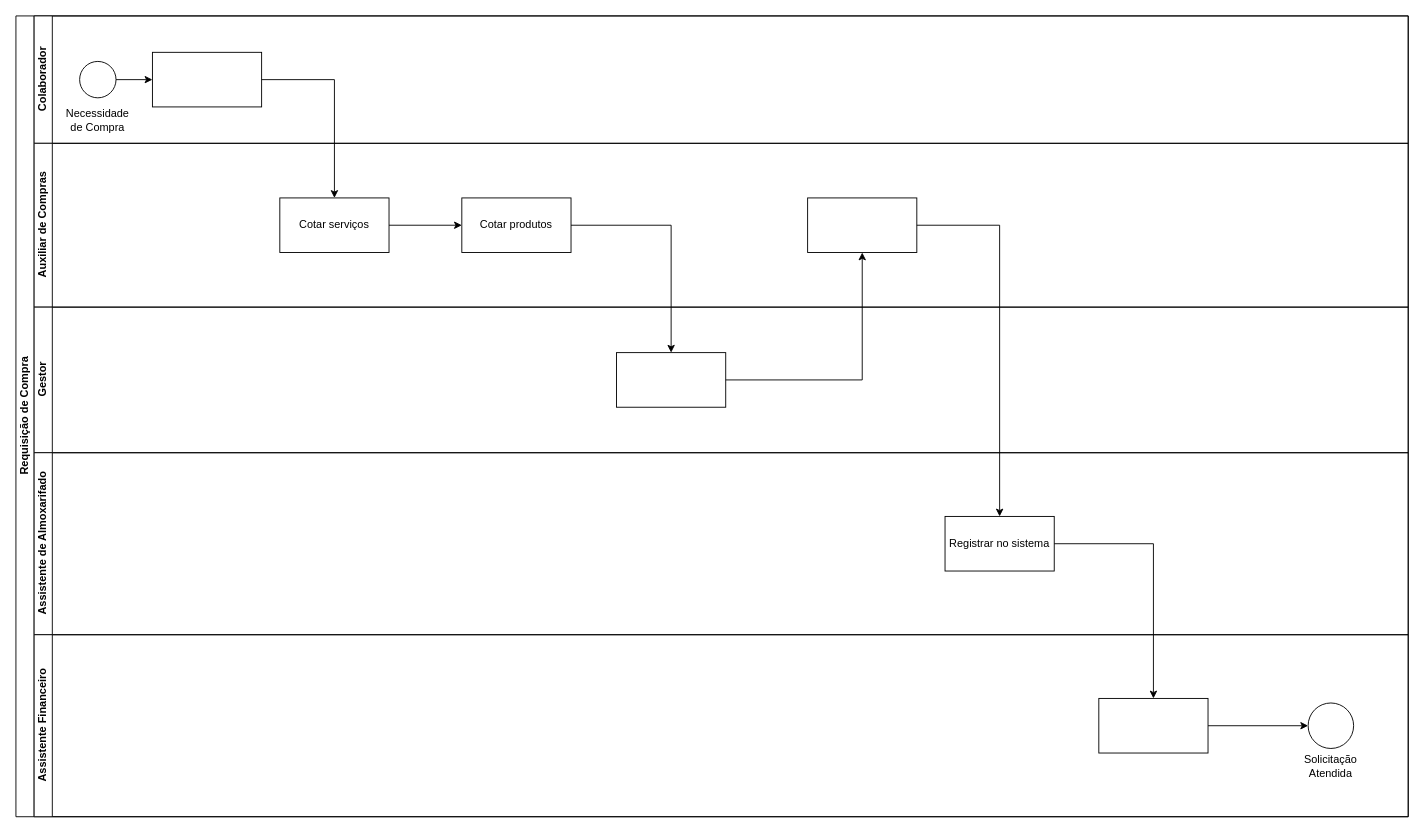
Some shapes in this 1424 by 833 pixel diagram are drawn without their labels. Each missing label, with the centre of its shape:
Avaliar solicitação: (671,379)
Comprar serviços e produtos: (862,225)
Fazer requisição de compras: (207,79)
Lançar previsão de pagamento: (1153,725)
